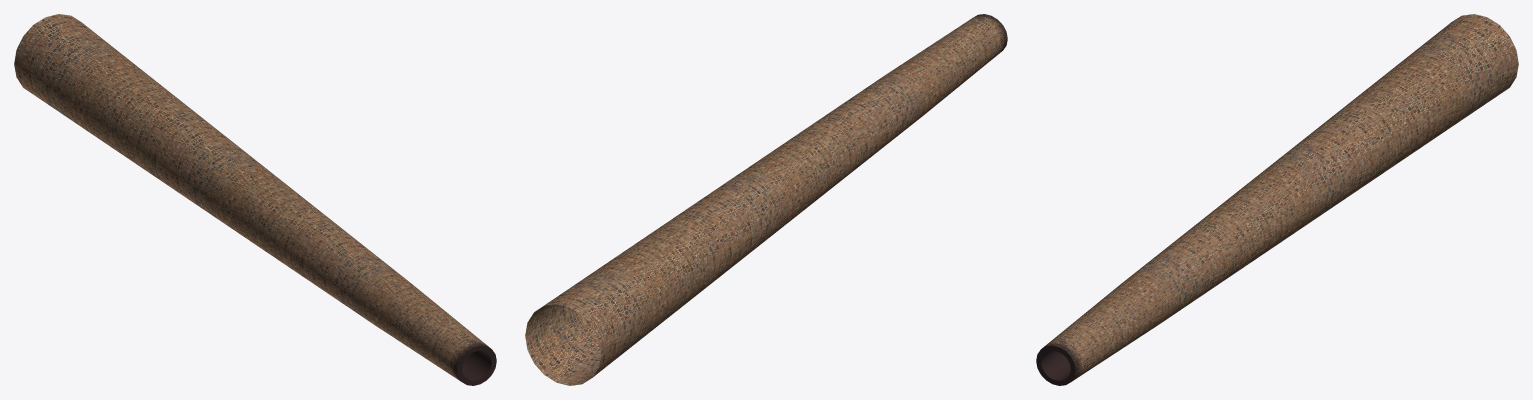
Rendered from chimney_small.obj.
3 renders of one model, left to right at view 1: azimuth 30°, elevation 25°; view 2: azimuth 150°, elevation 25°; view 3: azimuth 330°, elevation 25°, orthographic.
Visible parts, largest first — view 1: chimney_small; view 2: chimney_small; view 3: chimney_small.
Boxes of the visible parts, x1=… form: chimney_small: x1=14, y1=14, x2=496, y2=385; chimney_small: x1=525, y1=14, x2=1007, y2=385; chimney_small: x1=1036, y1=14, x2=1518, y2=385.
Bounding box in the file's own units: 3.11 × 3.06 × 30.
